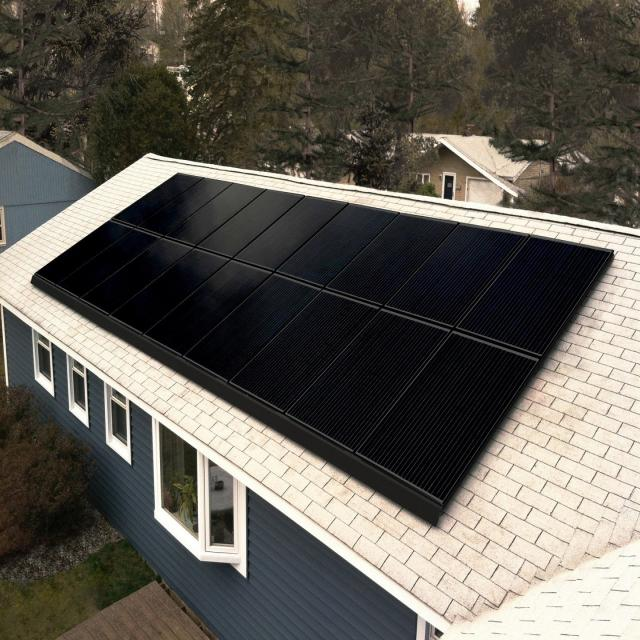no faulty: (42, 176, 610, 514)
